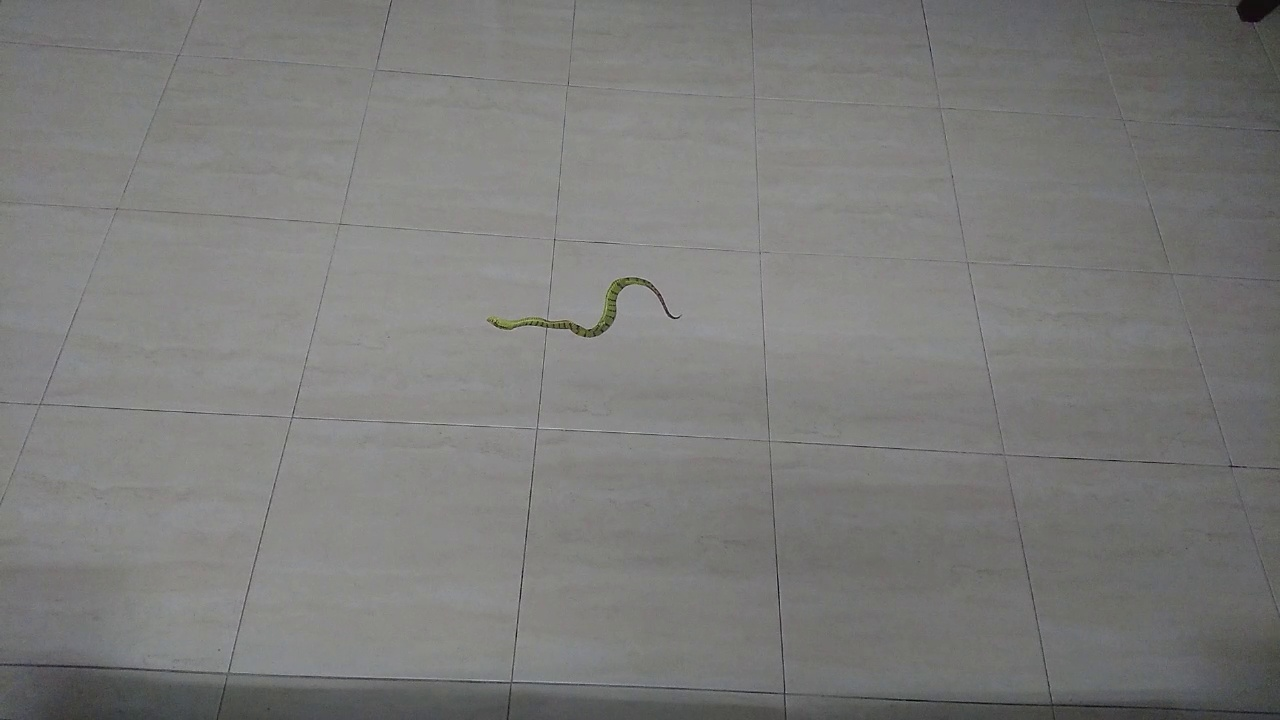snake: (472, 255, 692, 361)
